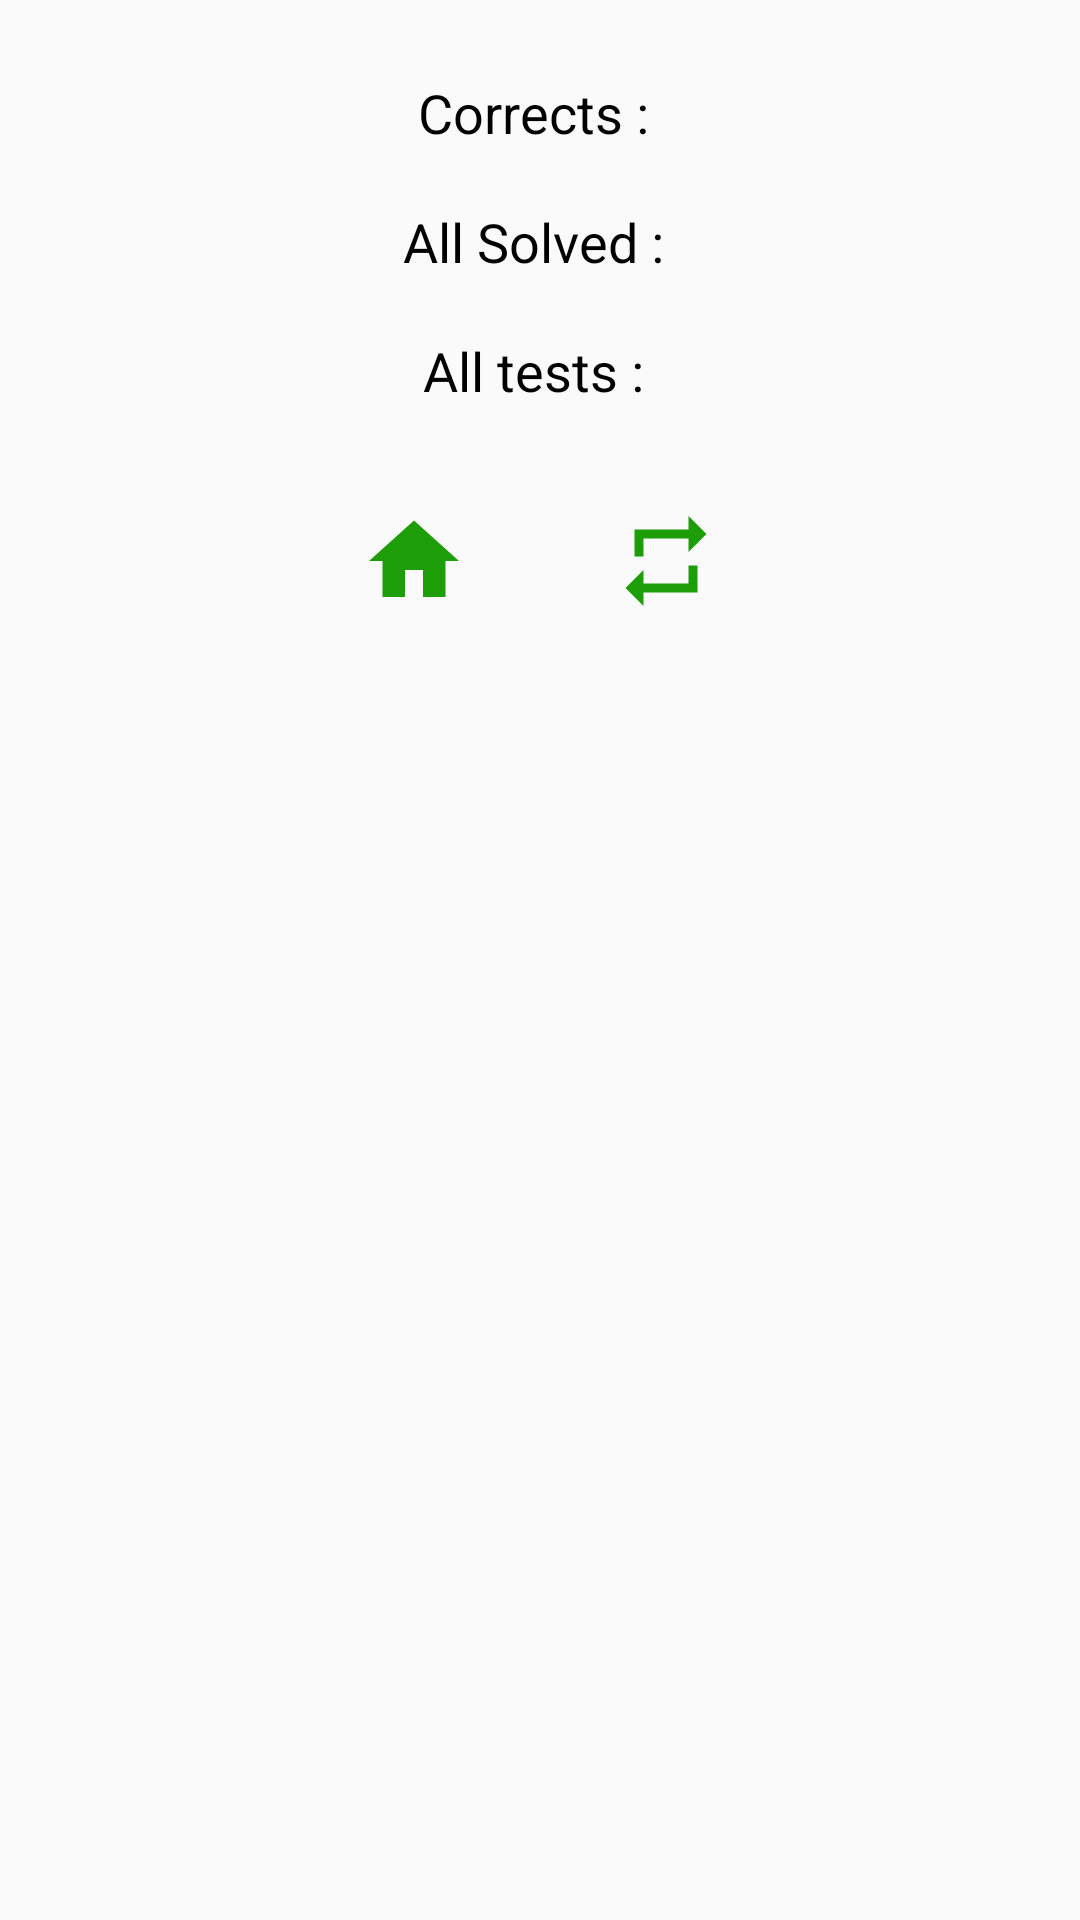

Where icons sit on this 1080px×1920px app screen, as bbox(x1, y1, x2, y2):
home: bbox(369, 520, 459, 597)
repeat: bbox(625, 516, 707, 606)
